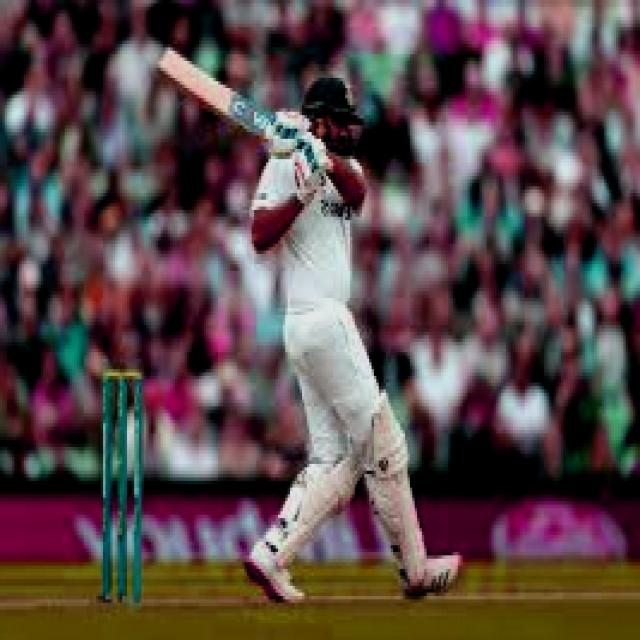toe: (152, 44, 170, 74)
